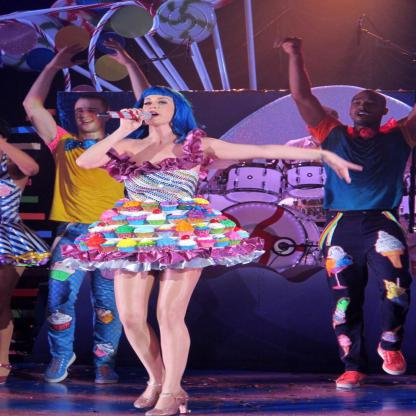face: (141, 94, 175, 125), (351, 94, 385, 125), (76, 97, 106, 132)
